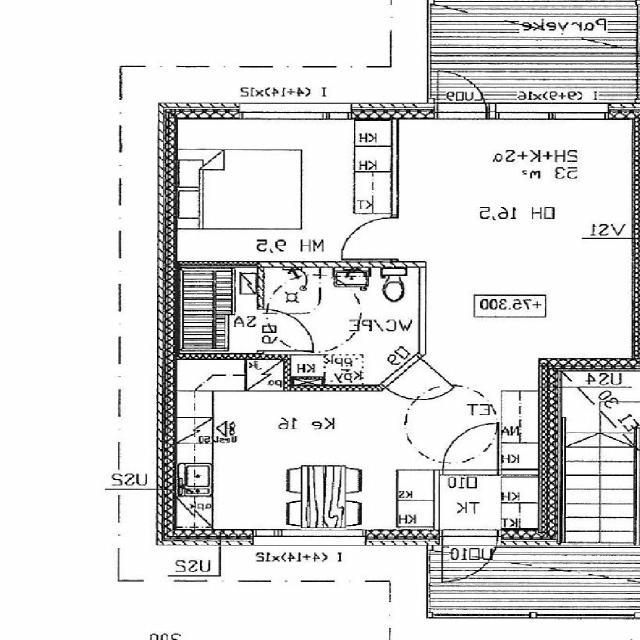door: (380, 355, 455, 417), (442, 530, 498, 592), (443, 423, 499, 475), (438, 63, 486, 119), (257, 310, 314, 350), (342, 218, 399, 258)
